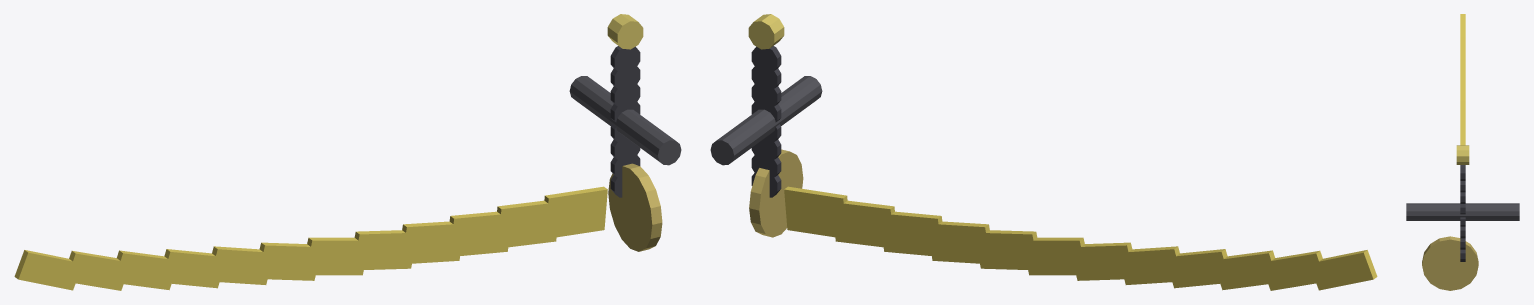
The model's file is gunes_katana.glb.
3 views of the same model, side by side, from view 1: azimuth 30°, elevation 25°; view 2: azimuth 150°, elevation 25°; view 3: azimuth 270°, elevation 25° (orthographic). The views are drawn at different scales.
Parts seen in each view (by area): view 1: geometry_0; view 2: geometry_0; view 3: geometry_0.
Boxes of the visible parts, box(x1,y1,x2,y2) form: geometry_0: box(14, 14, 681, 290); geometry_0: box(710, 14, 1377, 290); geometry_0: box(1406, 14, 1519, 290).
Size of the model in its own units: 0.7333 by 0.251 by 0.18.
